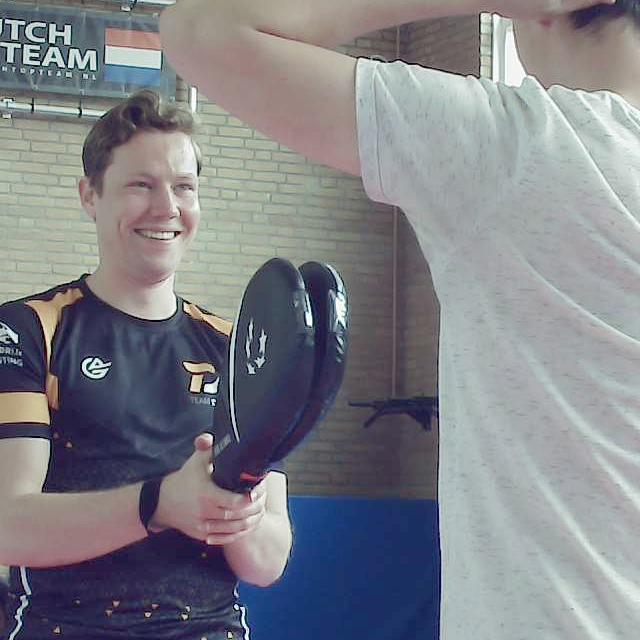paddle: (211, 259, 353, 489)
